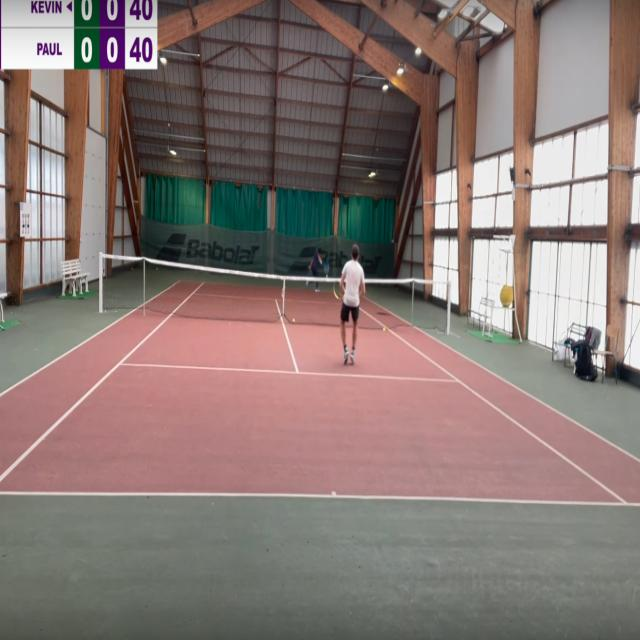ball: (383, 327, 386, 332), (292, 319, 294, 323), (326, 275, 328, 279)
